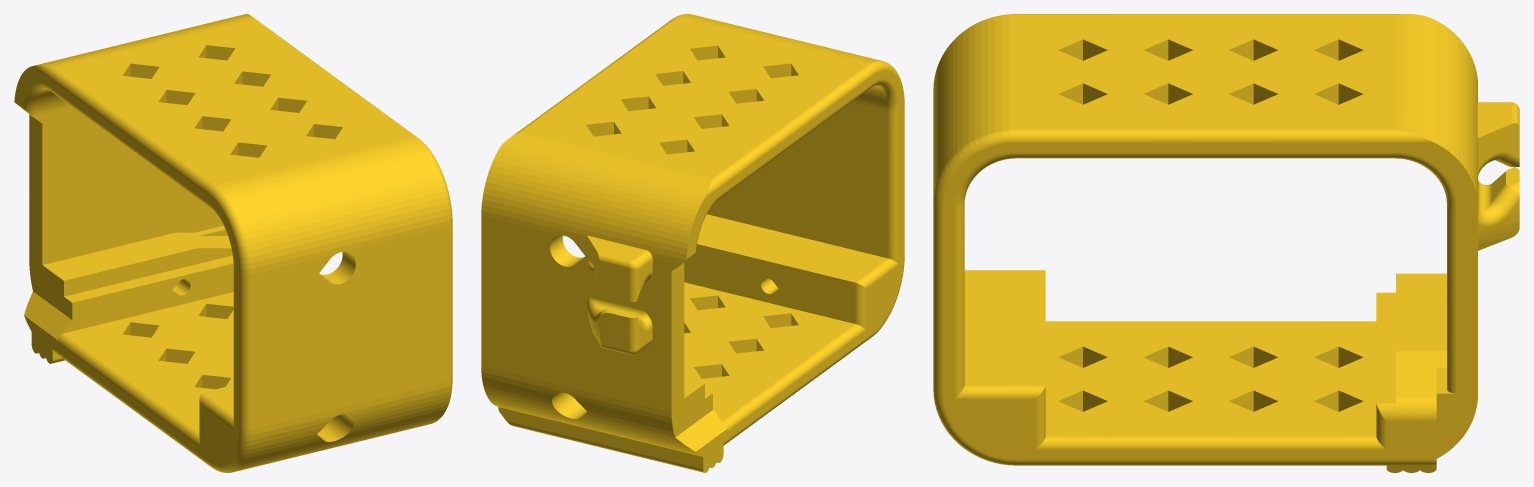
File: motor_holder_so101_wrist_v1.glb
3 renders of one model, left to right at view 1: azimuth 30°, elevation 25°; view 2: azimuth 150°, elevation 25°; view 3: azimuth 270°, elevation 25°, orthographic. The views are drawn at different scales.
Visible parts, largest first — view 1: motor_holder_so101_wrist_v1; view 2: motor_holder_so101_wrist_v1; view 3: motor_holder_so101_wrist_v1.
Part boxes in pixels (box(x1,y1,x2,y2)): motor_holder_so101_wrist_v1: box(14, 14, 452, 472); motor_holder_so101_wrist_v1: box(481, 14, 904, 472); motor_holder_so101_wrist_v1: box(933, 14, 1519, 472).
Size of the model in its own units: 0.028 by 0.0369 by 0.0564.
